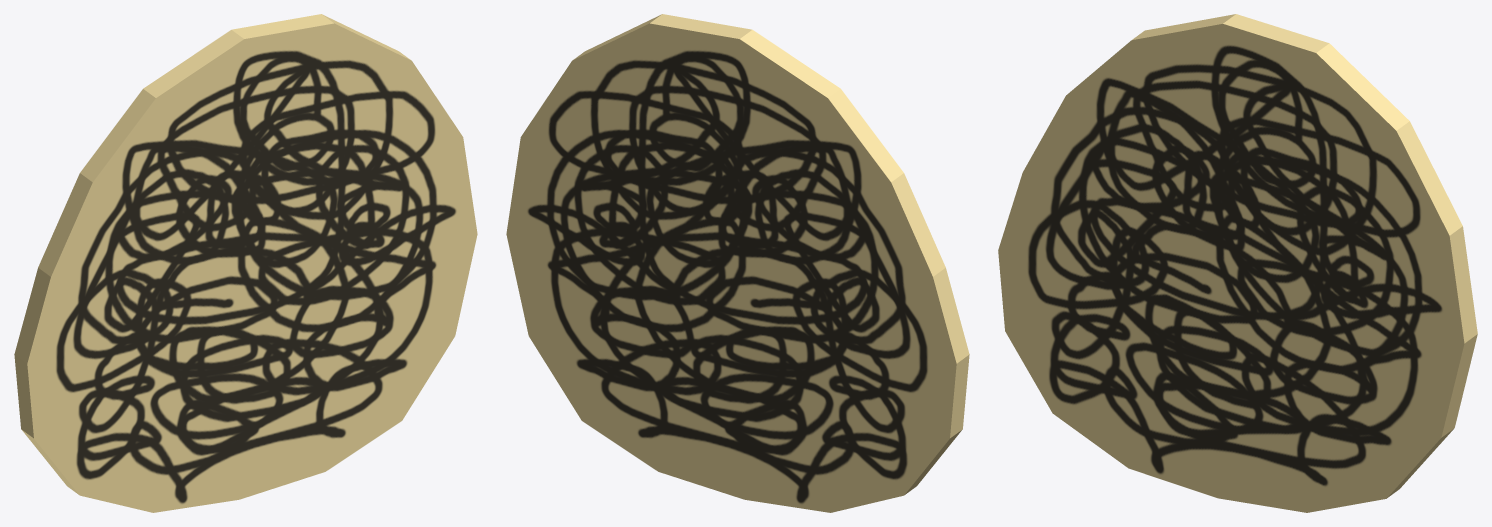
File: Tumbleweed.fbx
3 renders of one model, left to right at view 1: azimuth 30°, elevation 25°; view 2: azimuth 150°, elevation 25°; view 3: azimuth 330°, elevation 25°, orthographic. The views are drawn at different scales.
Parts seen in each view (by area): view 1: Cylinder; view 2: Cylinder; view 3: Cylinder.
Part boxes in pixels (x1,y1,x2,y2): Cylinder: (14, 14, 477, 512); Cylinder: (506, 14, 969, 512); Cylinder: (998, 14, 1477, 512).
Size of the model in its own units: 2.01 by 1.96 by 0.1.
